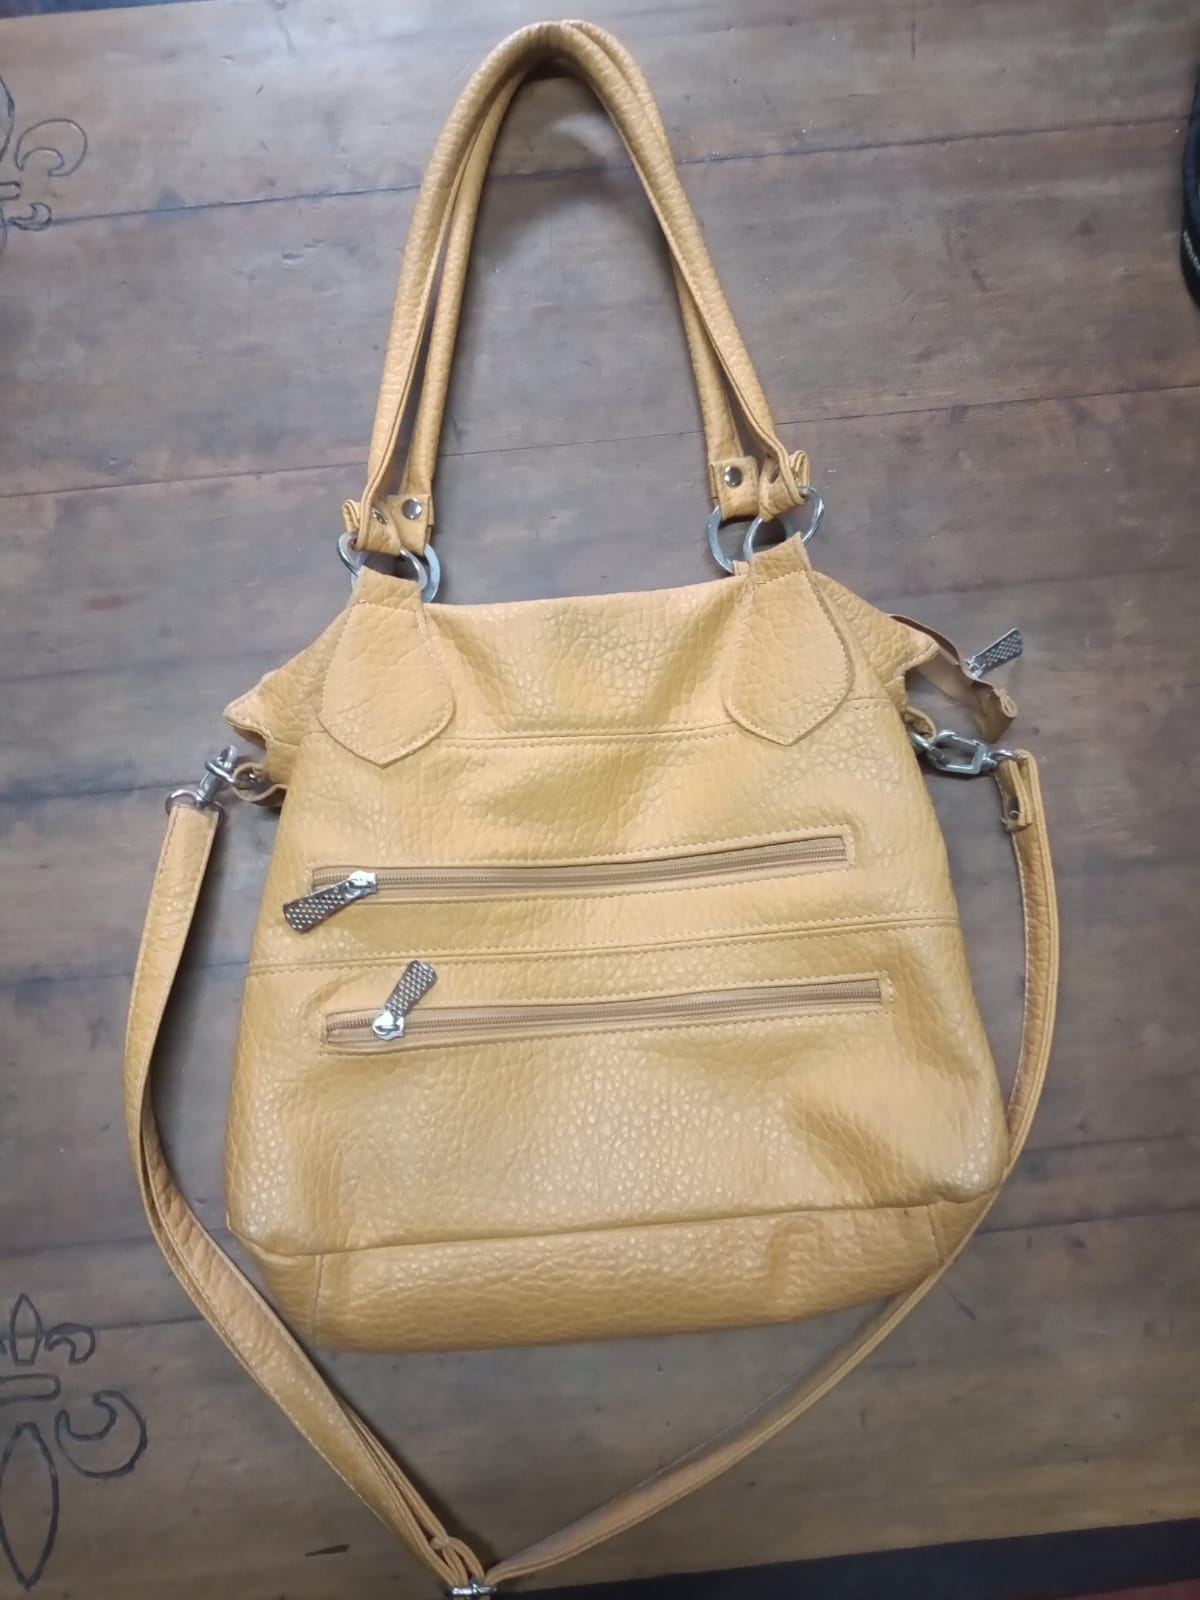cartera: (108, 13, 1105, 1600)
cuero: (221, 598, 1025, 1332)
